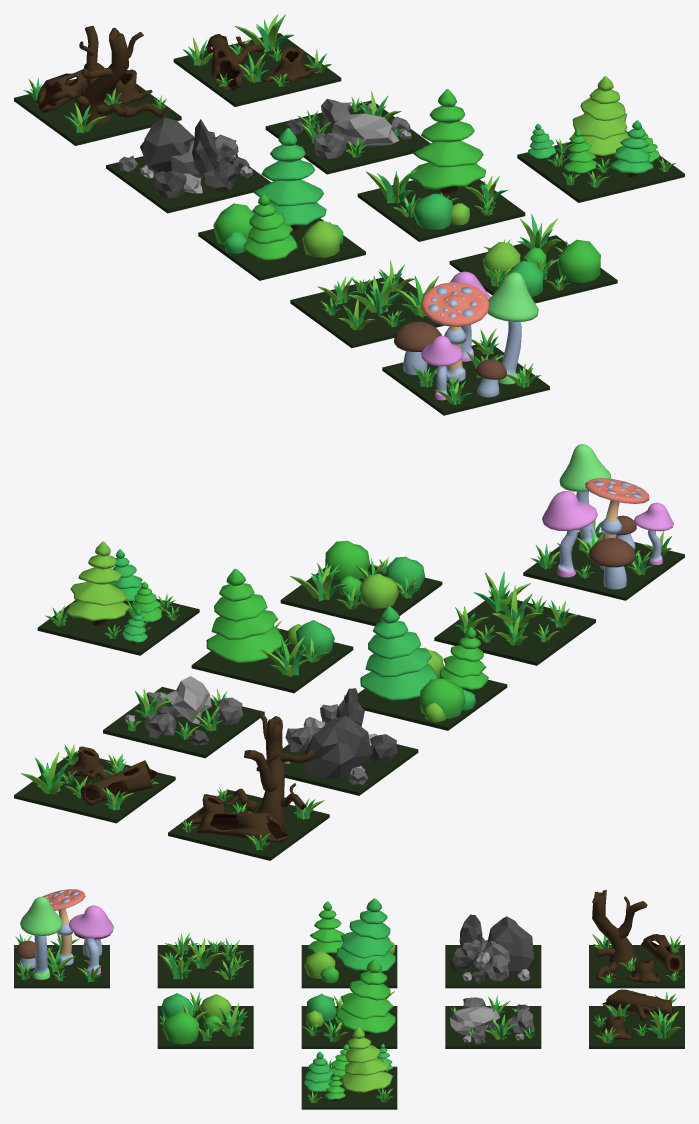
The model's file is blocs.fbx.
3 renders of one model, top to bottom at view 1: azimuth 30°, elevation 25°; view 2: azimuth 150°, elevation 25°; view 3: azimuth 270°, elevation 25°, orthographic. The views are drawn at different scales.
Parts seen in each view (by area): view 1: Cylinder.022, Icosphere.015, Cylinder.029, Cylinder.011, Cylinder.032, Plane.004, Cylinder.006, Plane.054, Plane.099, Plane.090, Icosphere.029, Plane.003 (+18 smaller); view 2: Cylinder.022, Cylinder.011, Icosphere.015, Cylinder.029, Cylinder.006, Plane.004, Cylinder.032, Icosphere.022, Plane.003, Plane.099, Plane.054, Icosphere.029 (+18 smaller); view 3: Cylinder.022, Icosphere.015, Cylinder.029, Cylinder.011, Plane.004, Cylinder.032, Cylinder.006, Plane.090, Plane.003, Icosphere.022, Plane, Icosphere.029 (+17 smaller).
Part boxes in pixels (bbox=[...]): Cylinder.022: bbox=[394, 271, 538, 400]; Icosphere.015: bbox=[119, 117, 252, 197]; Cylinder.029: bbox=[410, 89, 485, 229]; Cylinder.011: bbox=[36, 25, 164, 124]; Cylinder.032: bbox=[569, 76, 653, 177]; Plane.004: bbox=[290, 274, 443, 348]; Cylinder.006: bbox=[252, 128, 326, 232]; Plane.054: bbox=[357, 179, 525, 241]; Plane.099: bbox=[517, 131, 684, 202]; Plane.090: bbox=[173, 33, 341, 106]; Icosphere.029: bbox=[286, 99, 411, 158]; Plane.003: bbox=[382, 343, 549, 415]; Cylinder.022: bbox=[542, 444, 673, 589]; Cylinder.011: bbox=[188, 712, 315, 842]; Icosphere.015: bbox=[284, 688, 397, 784]; Cylinder.029: bbox=[206, 568, 334, 662]; Cylinder.006: bbox=[360, 606, 437, 700]; Plane.004: bbox=[434, 596, 595, 665]; Cylinder.032: bbox=[66, 541, 142, 626]; Icosphere.022: bbox=[325, 540, 424, 608]; Plane.003: bbox=[523, 531, 684, 600]; Plane.099: bbox=[37, 598, 199, 655]; Plane.054: bbox=[191, 628, 353, 693]; Icosphere.029: bbox=[125, 676, 243, 745]; Cylinder.022: bbox=[15, 889, 113, 979]; Icosphere.015: bbox=[450, 914, 533, 983]; Cylinder.029: bbox=[306, 959, 395, 1035]; Cylinder.011: bbox=[592, 890, 683, 983]; Plane.004: bbox=[157, 945, 253, 988]; Cylinder.032: bbox=[304, 1027, 392, 1093]; Cylinder.006: bbox=[336, 898, 395, 973]; Plane.090: bbox=[589, 1006, 684, 1048]; Plane.003: bbox=[14, 945, 109, 988]; Icosphere.022: bbox=[161, 993, 231, 1044]; Plane: bbox=[589, 945, 684, 988]; Icosphere.029: bbox=[449, 997, 533, 1044].
Bounding box in the file's own units: 4.02 × 0.9958 × 7.
